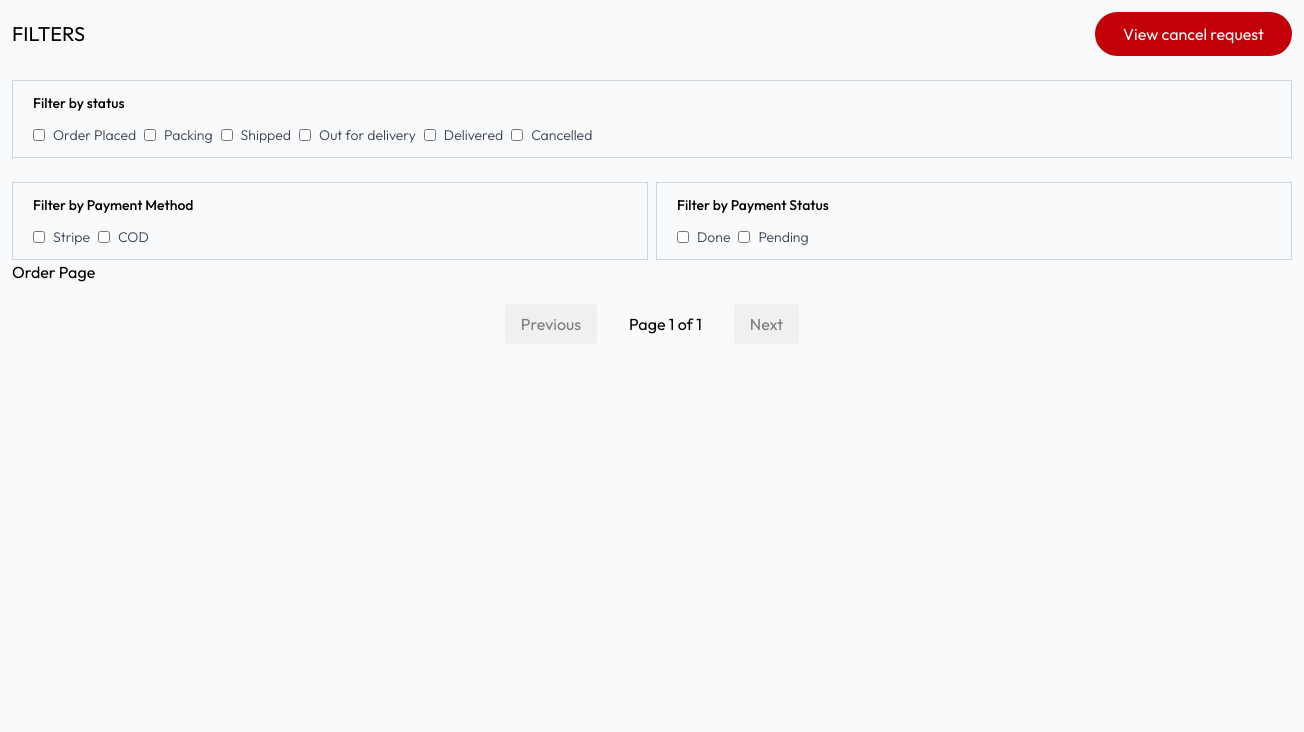
Scenario: Order Component › toggles cancelled orders filter
Click the button "View cancel request" at (1194, 34), box [1095,12,1292,56]
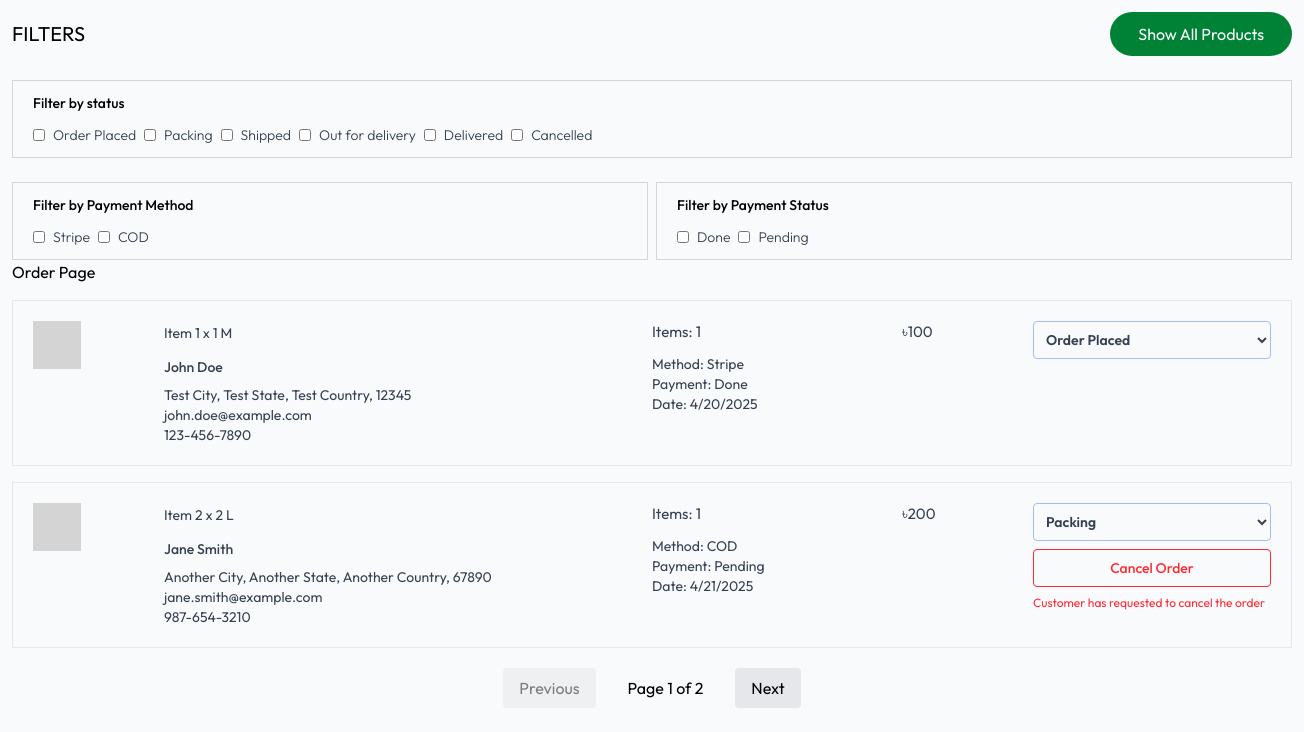
Check: the button "Show All Products" is shown, box [1110,12,1292,56]
